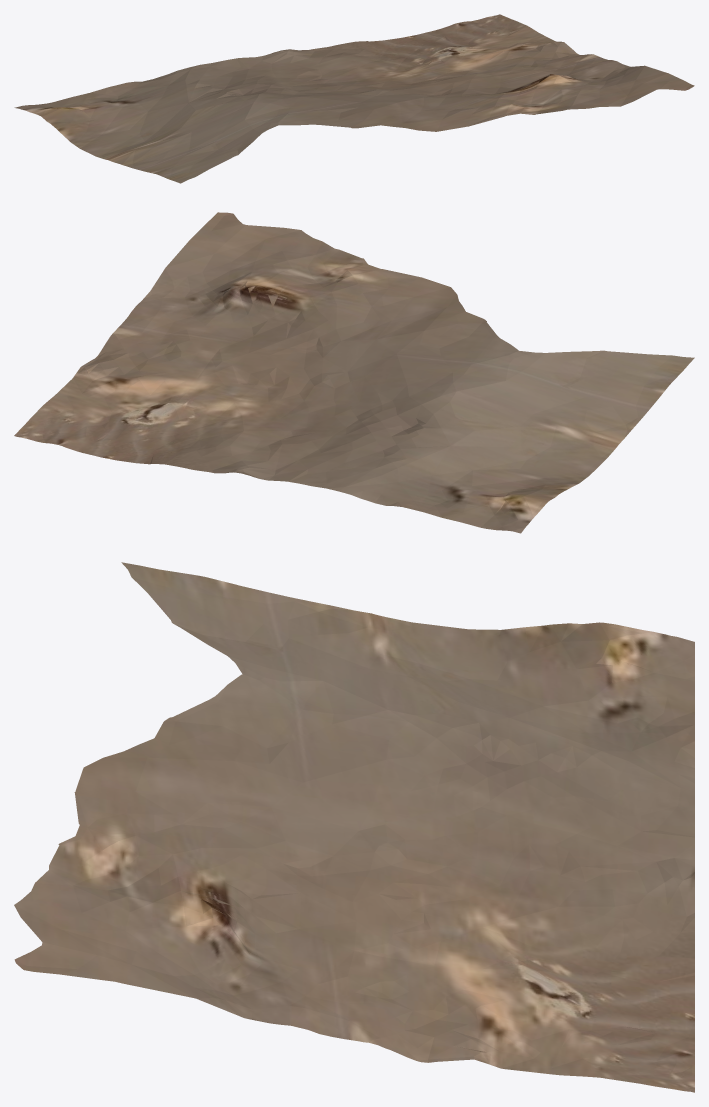
3 renders of one model, top to bottom at view 1: azimuth 30°, elevation 25°; view 2: azimuth 150°, elevation 25°; view 3: azimuth 270°, elevation 25°, orthographic. The views are drawn at different scales.
Size of the model in its own units: 1.04 by 0.1472 by 0.737.
2 materials, 2 textured.
